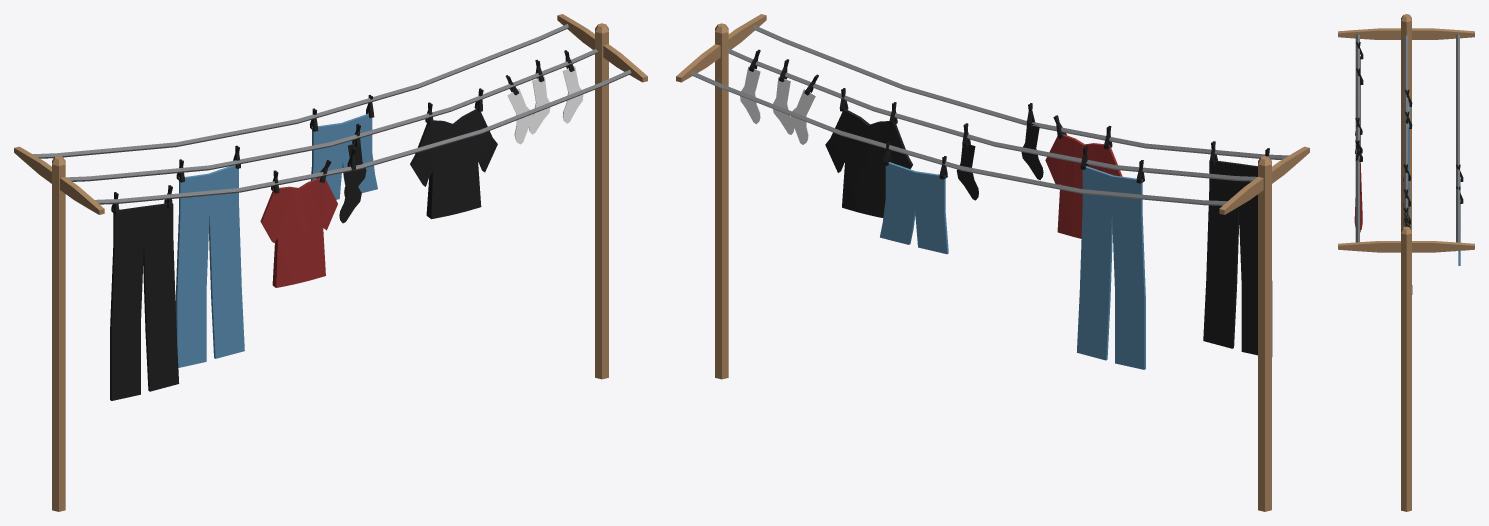
The model's file is SM_clothes_drying_rack_02.fbx.
3 renders of one model, left to right at view 1: azimuth 30°, elevation 25°; view 2: azimuth 150°, elevation 25°; view 3: azimuth 270°, elevation 25°, orthographic. The views are drawn at different scales.
Visible parts, largest first — view 1: Cylinder031; view 2: Cylinder031; view 3: Cylinder031.
Boxes of the visible parts, x1,y1,x2,y2 form: Cylinder031: (14, 14, 647, 511); Cylinder031: (676, 14, 1309, 511); Cylinder031: (1338, 14, 1474, 511).
Bounding box in the file's own units: 157 × 94.78 × 41.76.
